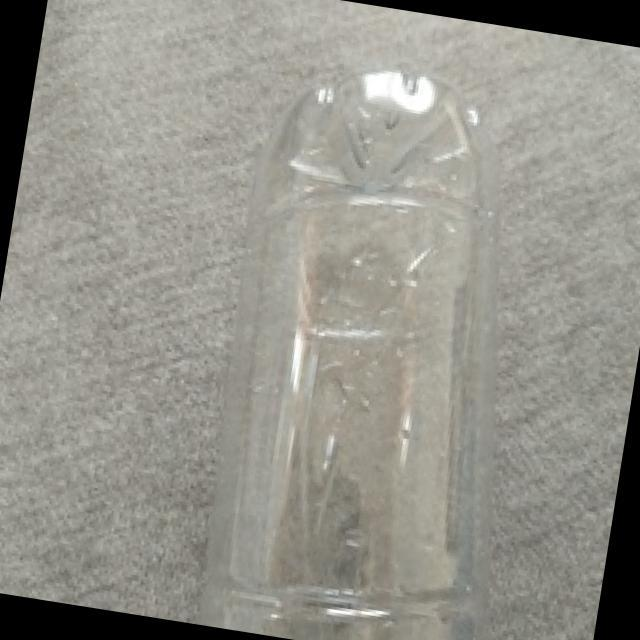good: (162, 37, 571, 640)
